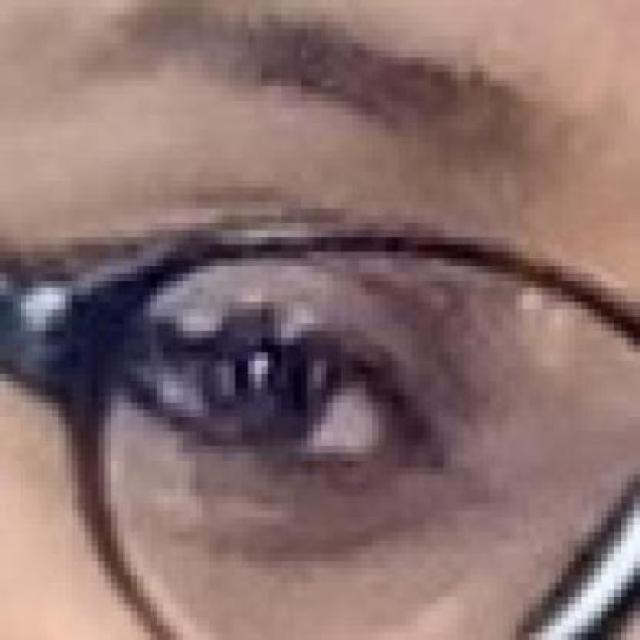awake: (130, 309, 438, 496)
